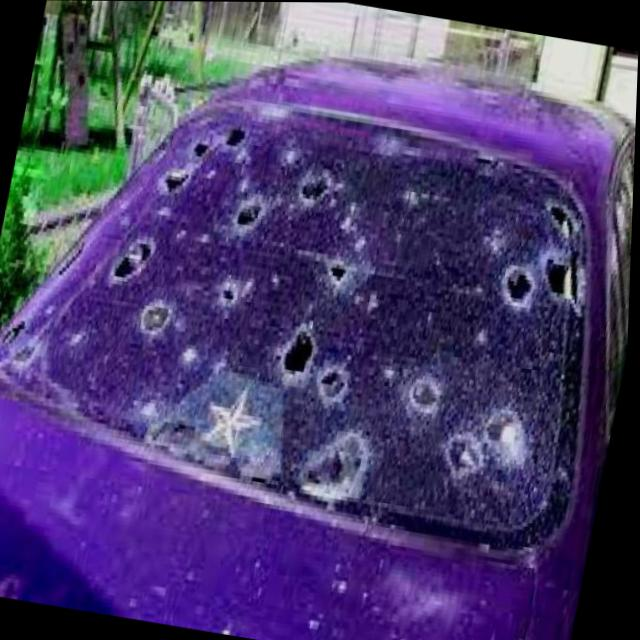Car-Damage: (0, 59, 638, 572)
